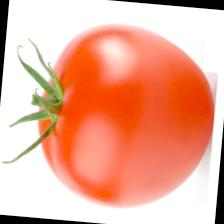tomato: (0, 14, 222, 215)
